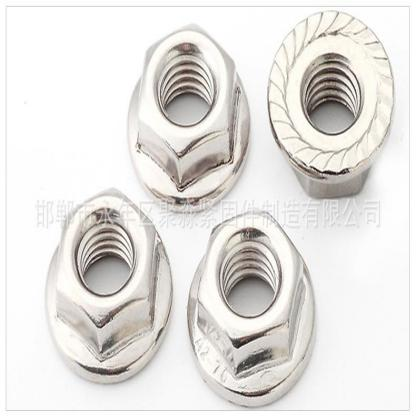FOD: (186, 210, 328, 408), (266, 8, 398, 202), (44, 190, 173, 382), (125, 24, 252, 215)
